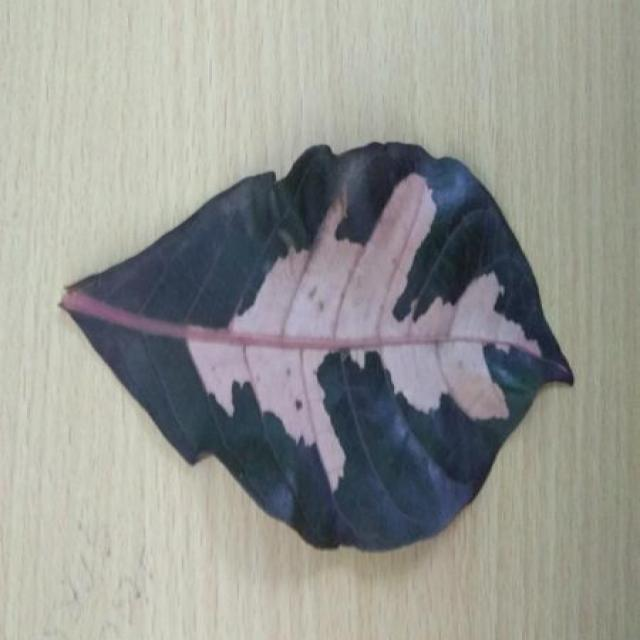caricature: (63, 142, 572, 549)
